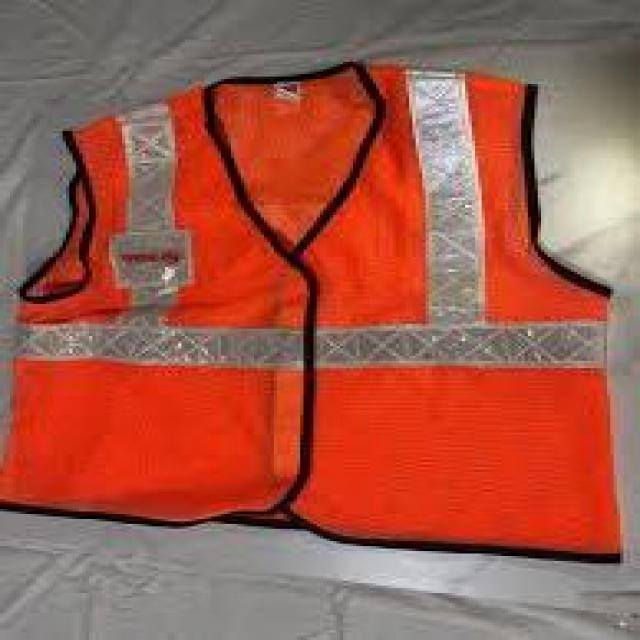reflective_jacket: (0, 36, 639, 561)
